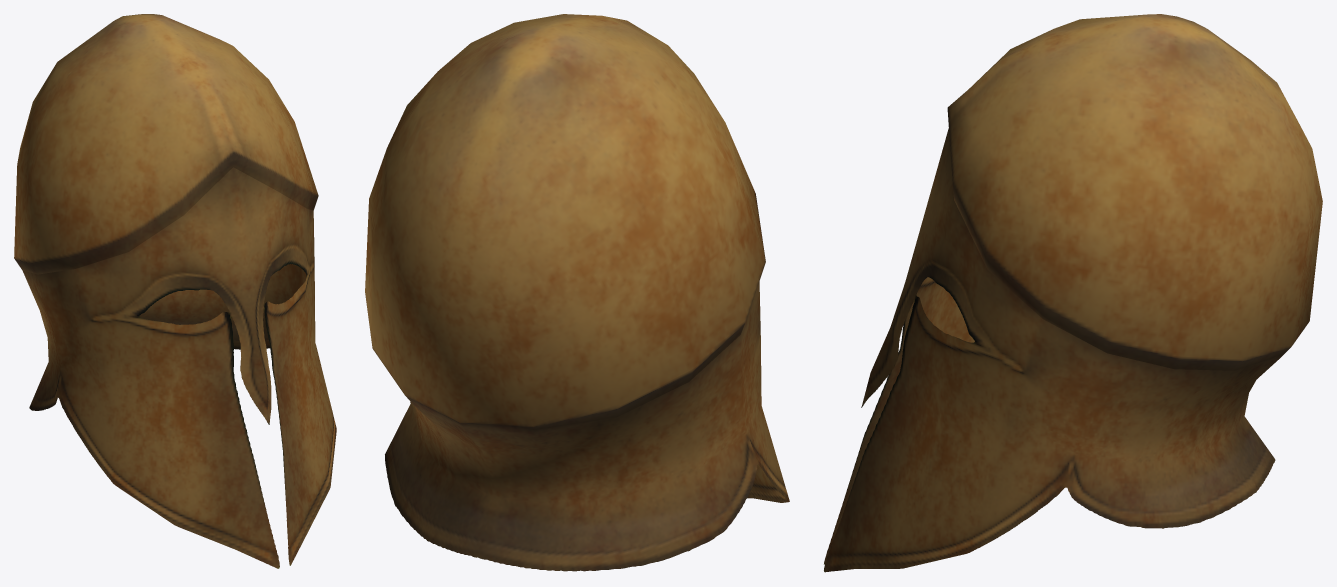
File: helmet.glb
3 renders of one model, left to right at view 1: azimuth 30°, elevation 25°; view 2: azimuth 150°, elevation 25°; view 3: azimuth 270°, elevation 25°, orthographic. The views are drawn at different scales.
Bounding box in the file's own units: 0.5258 × 0.8354 × 0.6908.
Materials: 1 (1 with a texture image).
